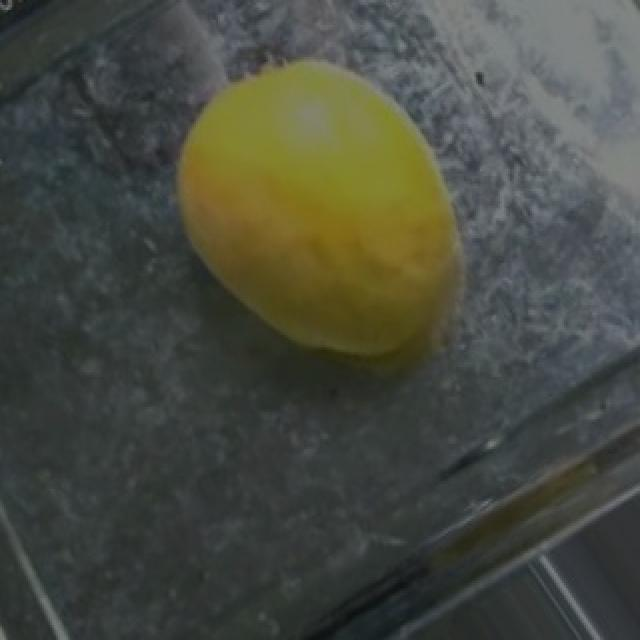fruit: (130, 15, 530, 412)
